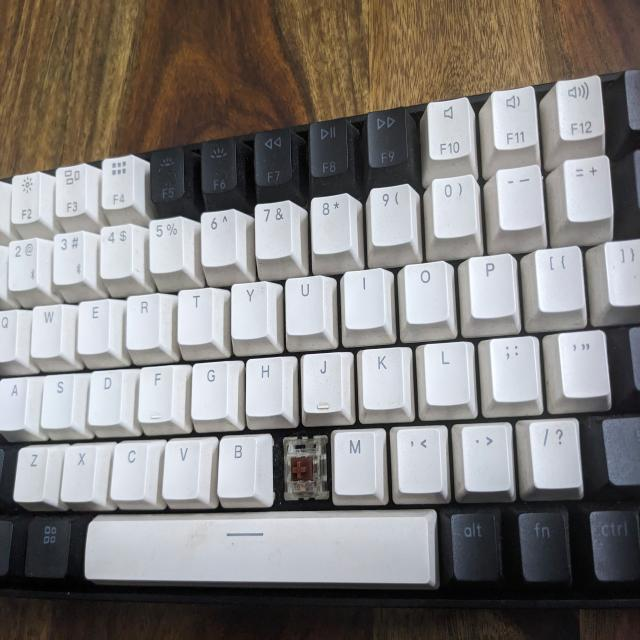C: (284, 437, 326, 507)
